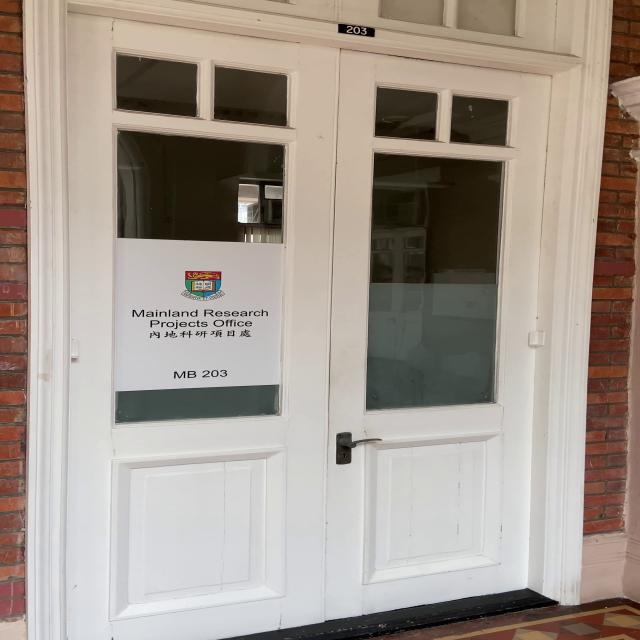room203: (338, 21, 375, 39)
room203Window: (166, 367, 235, 380)
